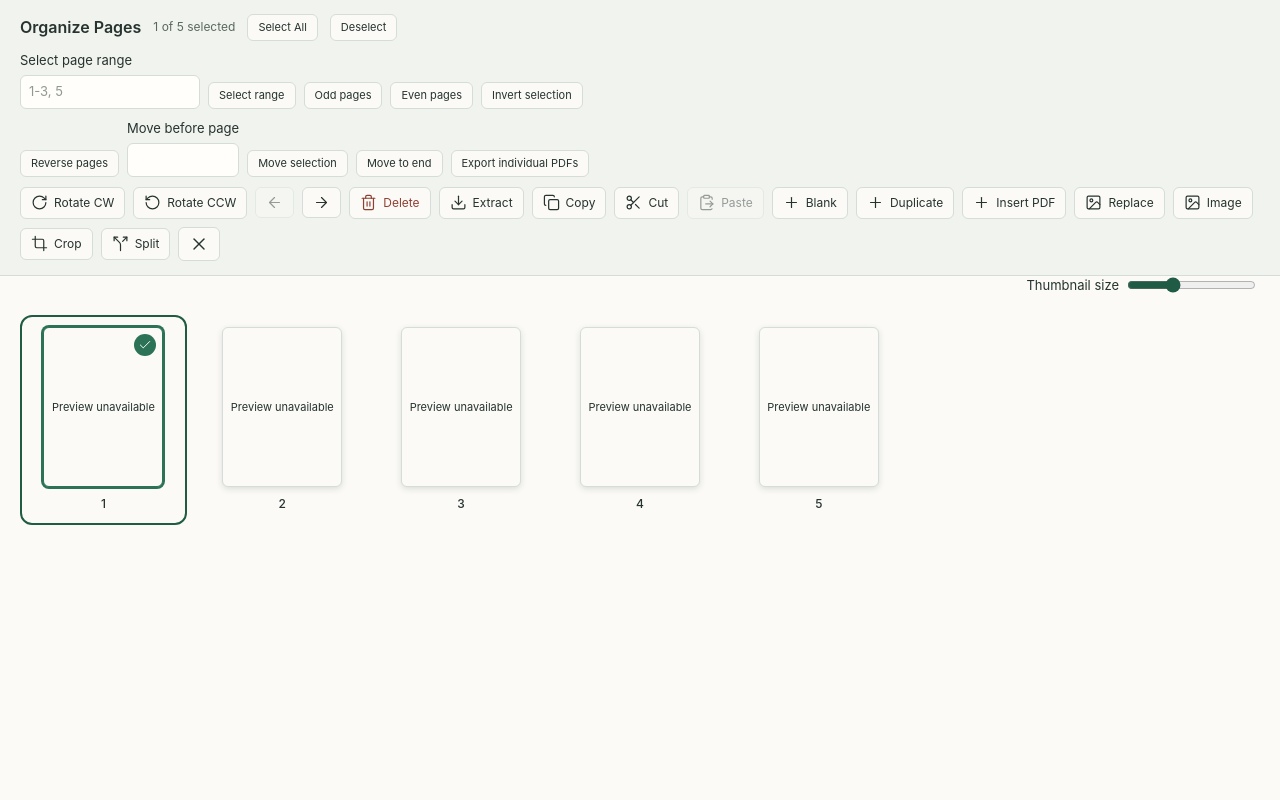
Test: page workflow controls › selects typed ranges and keeps selection when validation fails
In the field labelled "Select page range": coordinates (110, 92) top-left (20, 75), bottom-right (200, 108), type "2-4, 2"
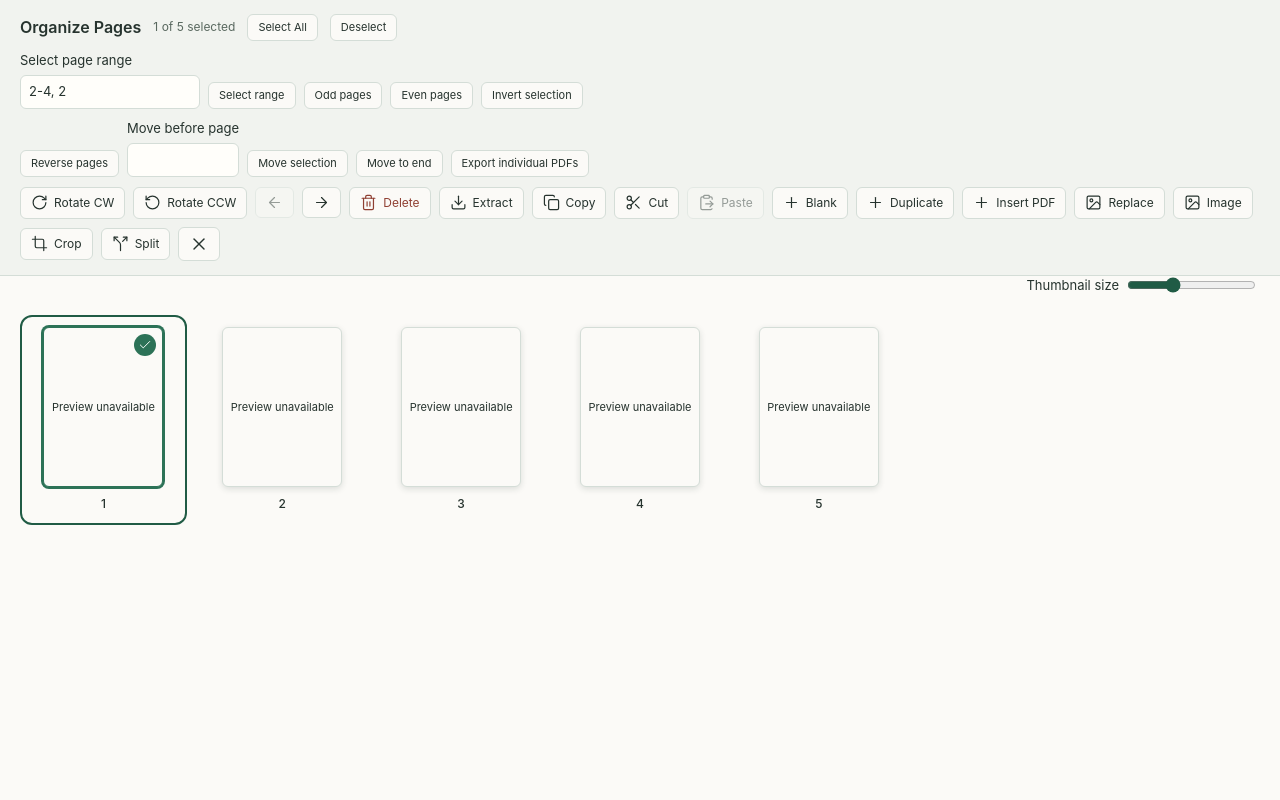
Click the button "Select range": coordinates (252, 95) top-left (208, 82), bottom-right (296, 108)
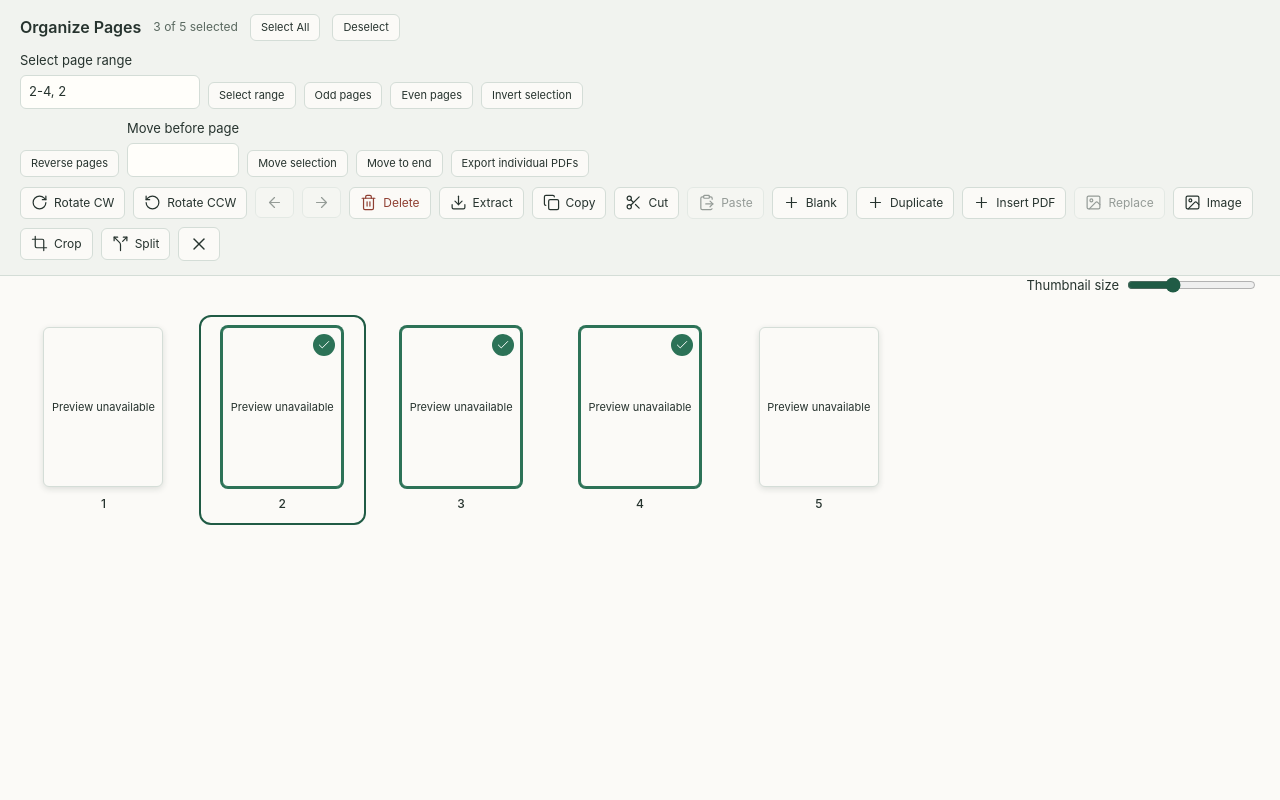
Replace the text in the field labelled "Select page range" with "1-9007199254740992": coordinates (110, 92) top-left (20, 75), bottom-right (200, 108)
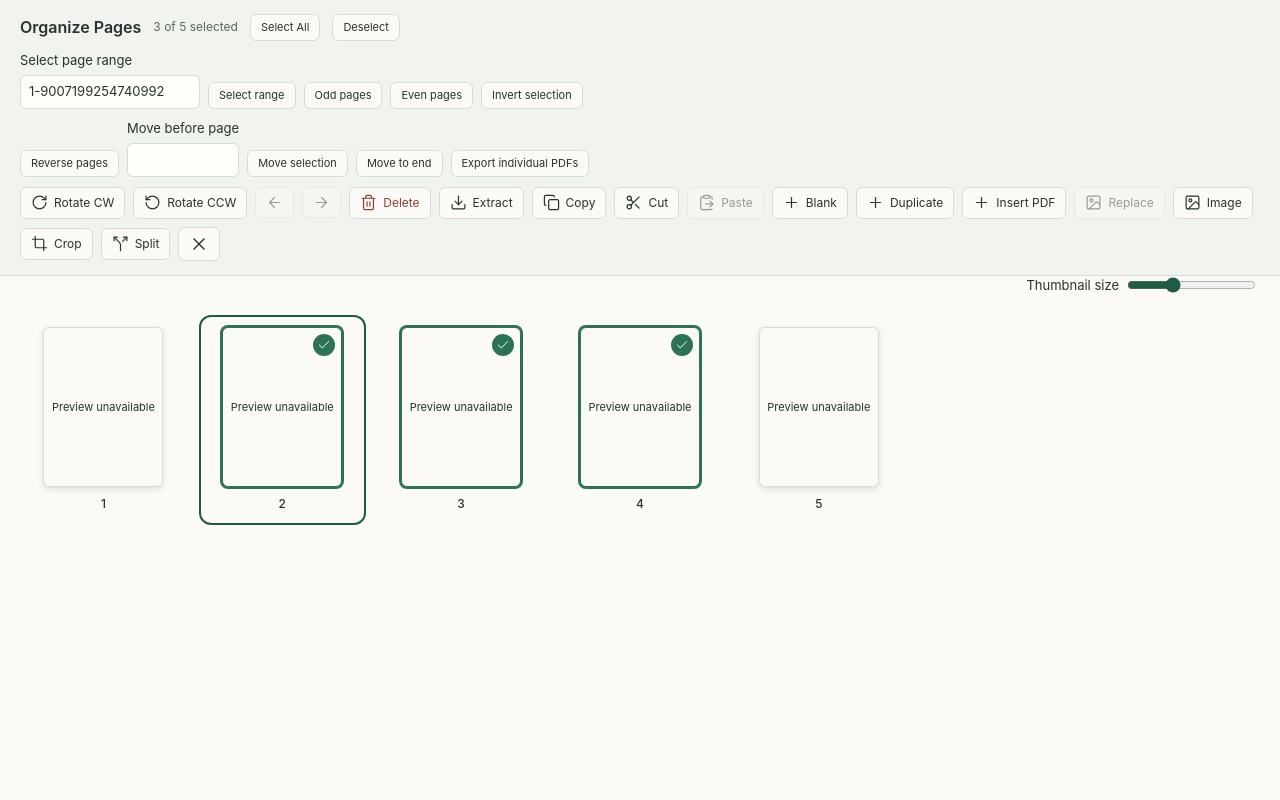
Click the button "Select range": coordinates (252, 95) top-left (208, 82), bottom-right (296, 108)
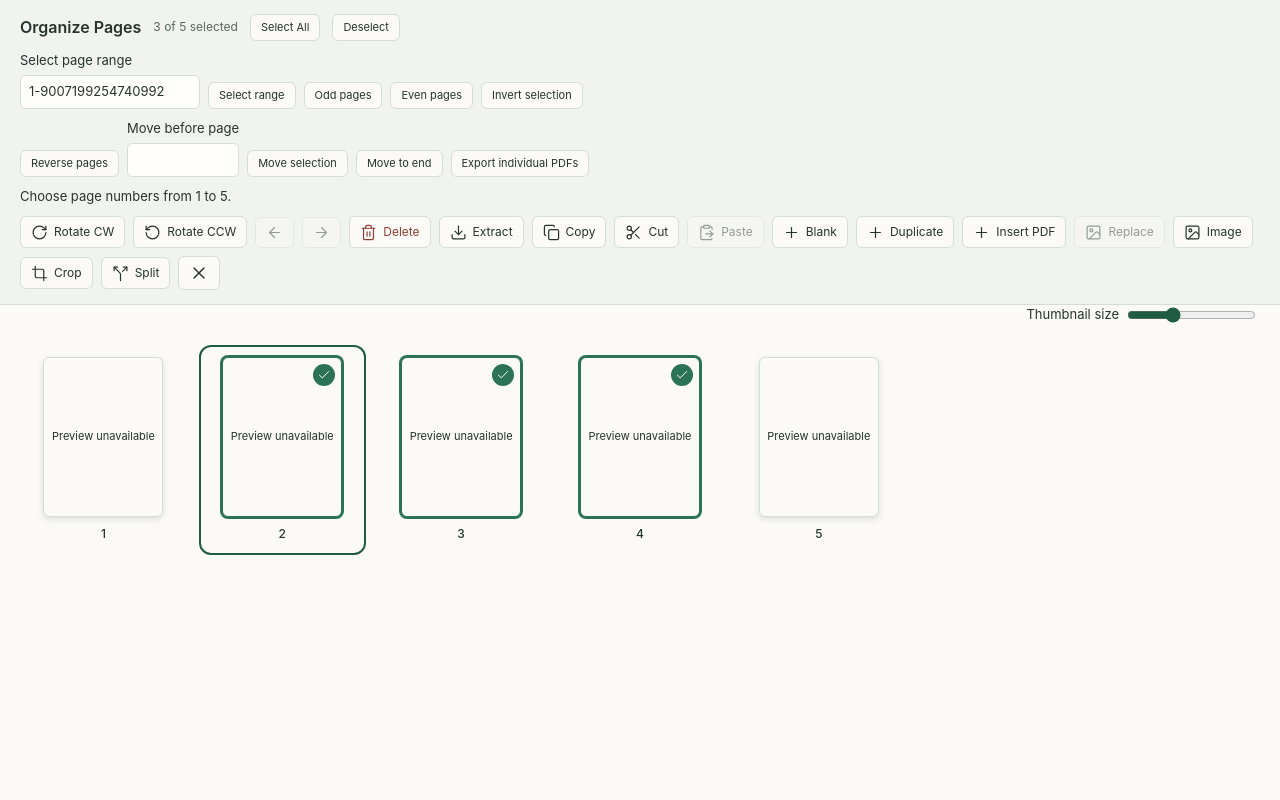
Check: the message shows "page", box top-left (20, 188), bottom-right (231, 204)
